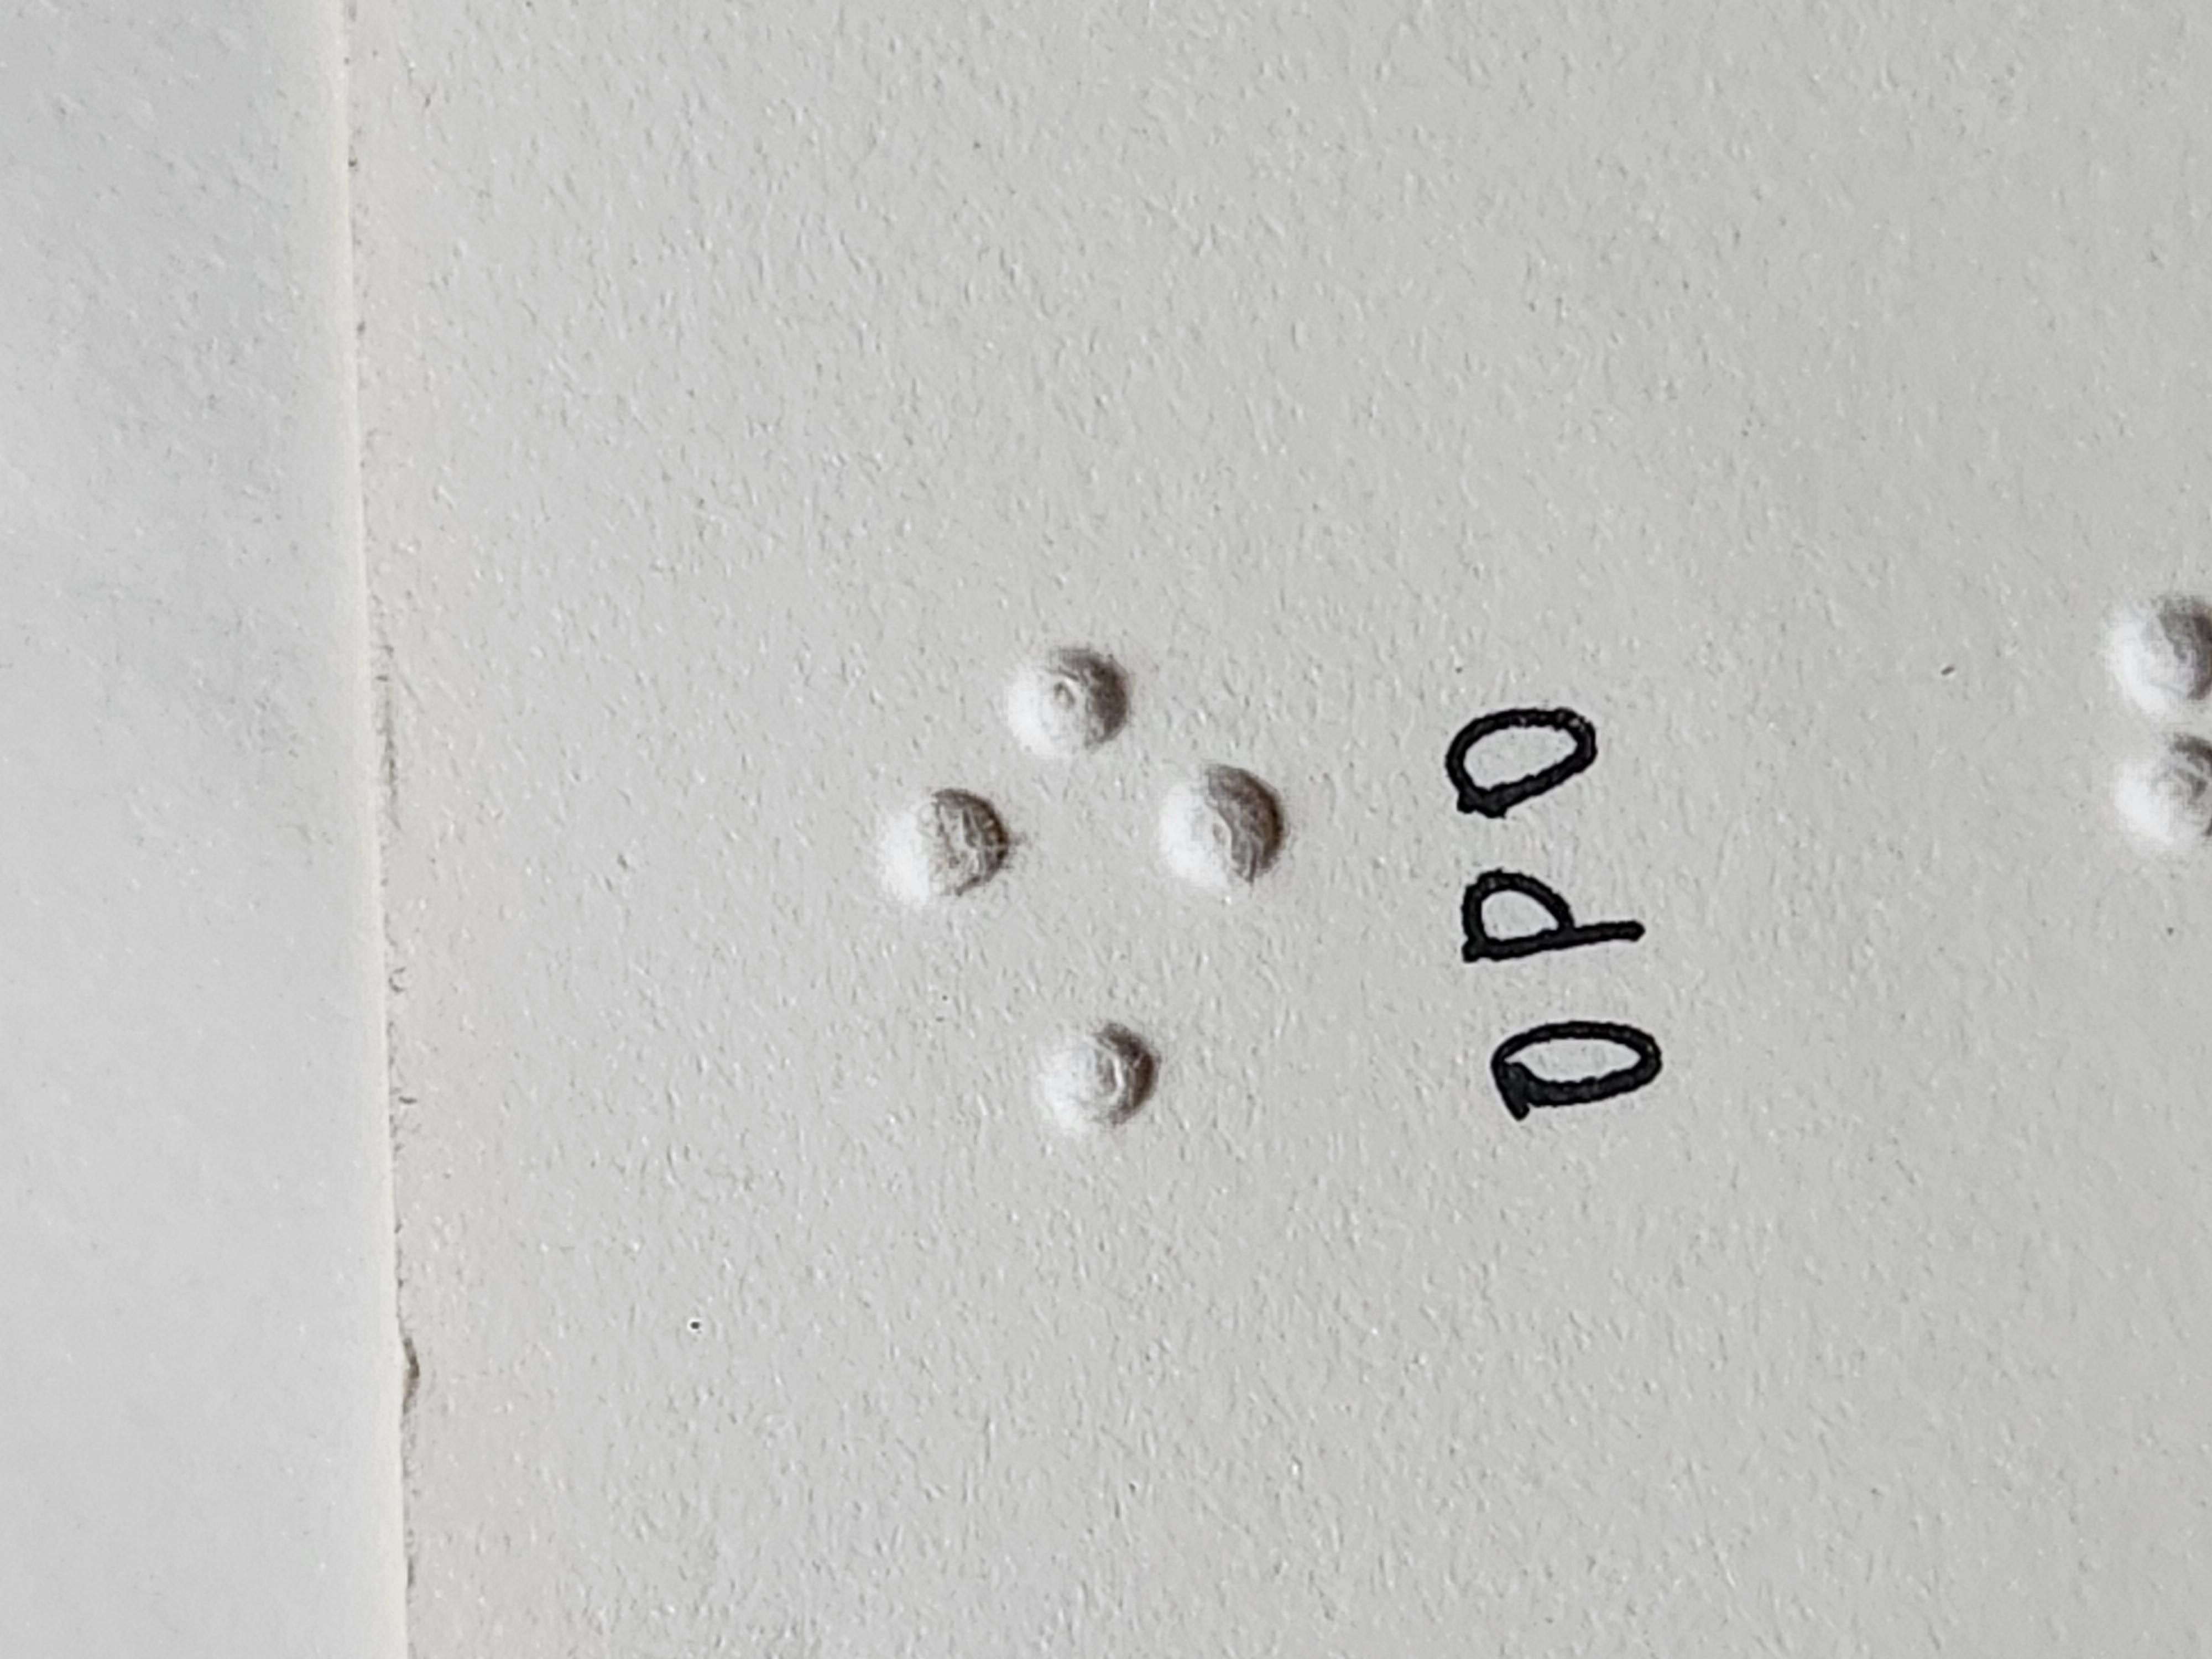dot_5: (510, 662, 845, 978)
two_cell_alphabet_opo: (1012, 652, 1346, 967)
